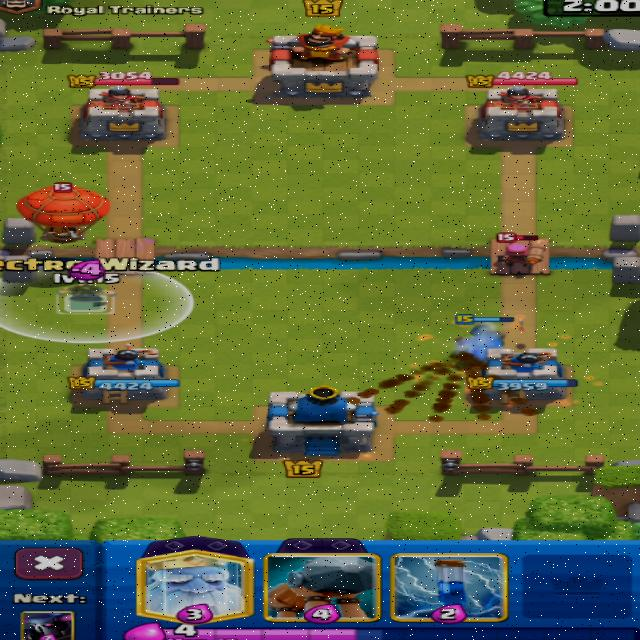Enemy-Balloon: (17, 183, 107, 242)
Enemy-Firecracker: (492, 243, 548, 268)
Enemy-KingTower: (269, 25, 378, 100)
Enemy-PrincessTower: (79, 86, 165, 141), (479, 86, 562, 141)
Player-Bandit: (457, 324, 502, 361)
Player-KingTower-Activated: (266, 385, 376, 455)
Player-PrincessTower: (68, 344, 178, 403), (467, 349, 576, 399)
